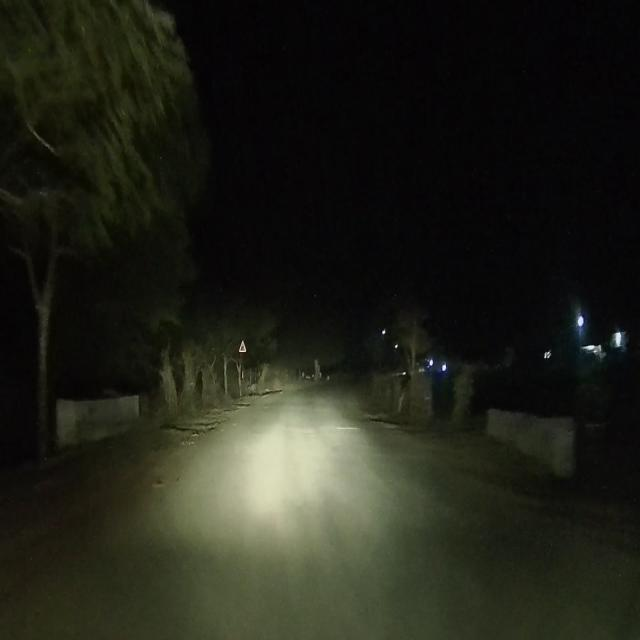left-hand-curve: (239, 339, 246, 354)
